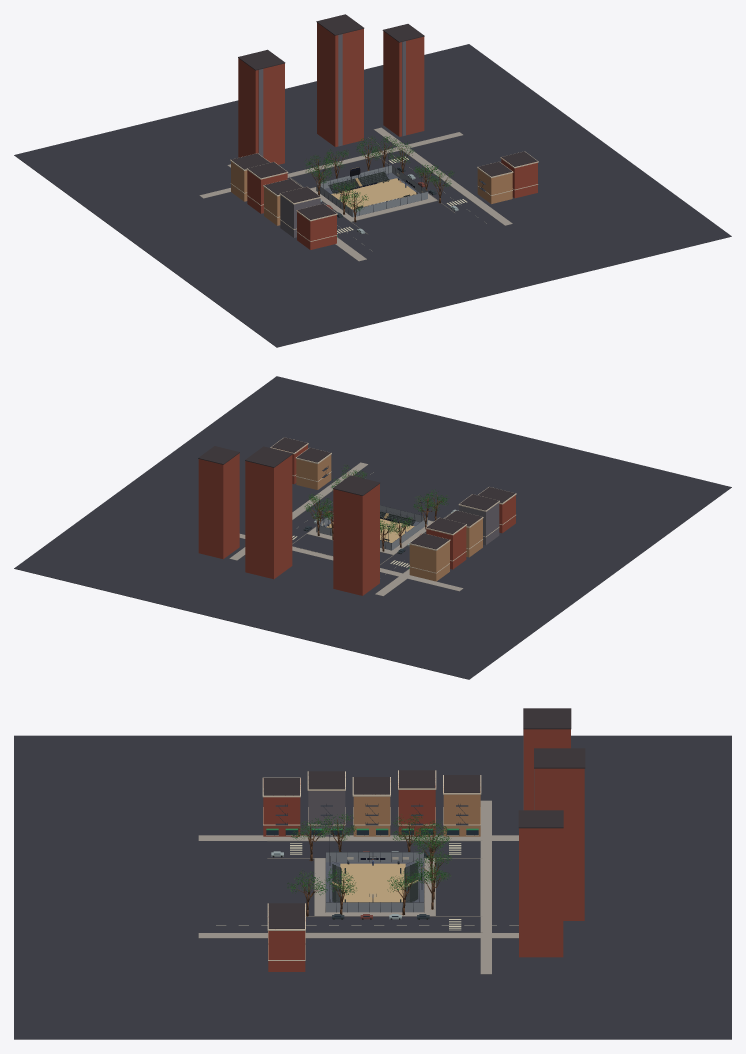
File: park.glb
3 views of the same model, one above another, from view 1: azimuth 30°, elevation 25°; view 2: azimuth 150°, elevation 25°; view 3: azimuth 270°, elevation 25° (orthographic). The views are drawn at different scales.
Parts seen in each view (by area): view 1: Static_Asphalt, Static_FacadeRed, Static_Roof, Static_Sidewalk, Static_FacadeGray, Static_FacadeTan, Static_ChainLink, CourtSurface, Static_Foliage, Static_Bark, Static_Cornice, Static_FoliageLight (+1 smaller); view 2: Static_Asphalt, Static_FacadeRed, Static_Roof, Static_FacadeTan, Static_Sidewalk, Static_ChainLink, Static_Foliage, Static_Cornice, Static_FacadeGray, Static_Bark; view 3: Static_Asphalt, Static_FacadeRed, Static_Roof, Static_Sidewalk, Static_FacadeTan, CourtSurface, Static_Foliage, Static_ChainLink, Static_Bark, Static_FacadeGray, Static_Cornice, Static_FoliageLight (+5 smaller).
Boxes of the visible parts, x1,y1,x2,y2 form: Static_Asphalt: [14, 44, 731, 347]; Static_FacadeRed: [238, 23, 537, 249]; Static_Roof: [231, 14, 537, 219]; Static_Sidewalk: [199, 127, 512, 261]; Static_FacadeGray: [258, 34, 405, 237]; Static_FacadeTan: [231, 161, 512, 225]; Static_ChainLink: [316, 165, 427, 216]; CourtSurface: [331, 178, 416, 209]; Static_Foliage: [304, 136, 454, 211]; Static_Bark: [311, 138, 449, 222]; Static_Cornice: [230, 151, 538, 241]; Static_FoliageLight: [304, 136, 452, 209]; Static_Asphalt: [14, 376, 731, 679]; Static_FacadeRed: [198, 445, 515, 595]; Static_Roof: [198, 437, 515, 549]; Static_FacadeTan: [296, 455, 482, 581]; Static_Sidewalk: [229, 462, 463, 596]; Static_ChainLink: [316, 505, 427, 550]; Static_Foliage: [305, 465, 448, 532]; Static_Cornice: [270, 438, 516, 573]; Static_FacadeGray: [459, 501, 499, 545]; Static_Bark: [309, 472, 442, 551]; Static_Asphalt: [14, 735, 731, 1039]; Static_FacadeRed: [263, 729, 584, 971]; Static_Roof: [263, 708, 585, 928]; Static_Sidewalk: [198, 800, 518, 974]; Static_FacadeTan: [305, 778, 480, 906]; CourtSurface: [340, 863, 405, 902]; Static_Foliage: [287, 812, 451, 895]; Static_ChainLink: [326, 852, 423, 912]; Static_Bark: [295, 819, 445, 916]; Static_FacadeGray: [308, 729, 534, 836]; Static_Cornice: [262, 770, 481, 960]; Static_FoliageLight: [288, 814, 451, 894].
Bounding box in the file's own units: 700 × 166 × 700.
